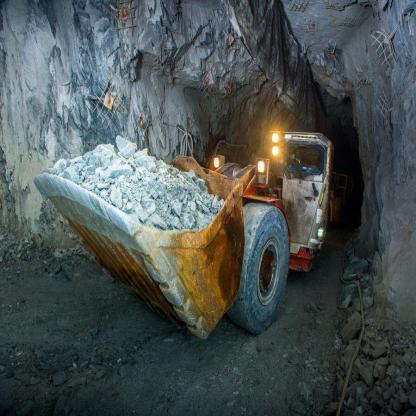bull_dozer/loader/grader: (36, 103, 368, 374)
